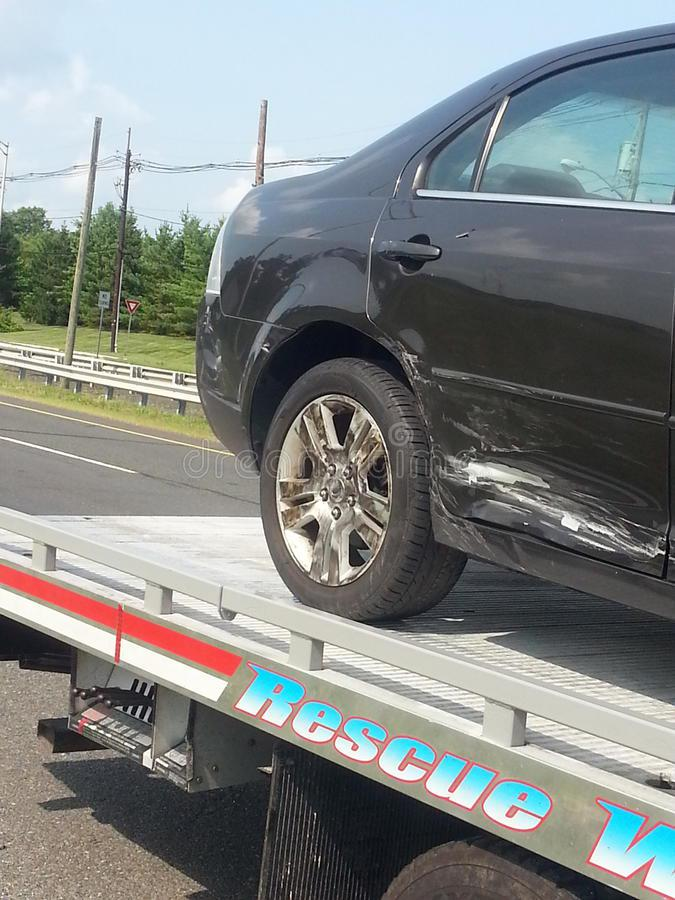doorouter-dent: (377, 198, 674, 595)
